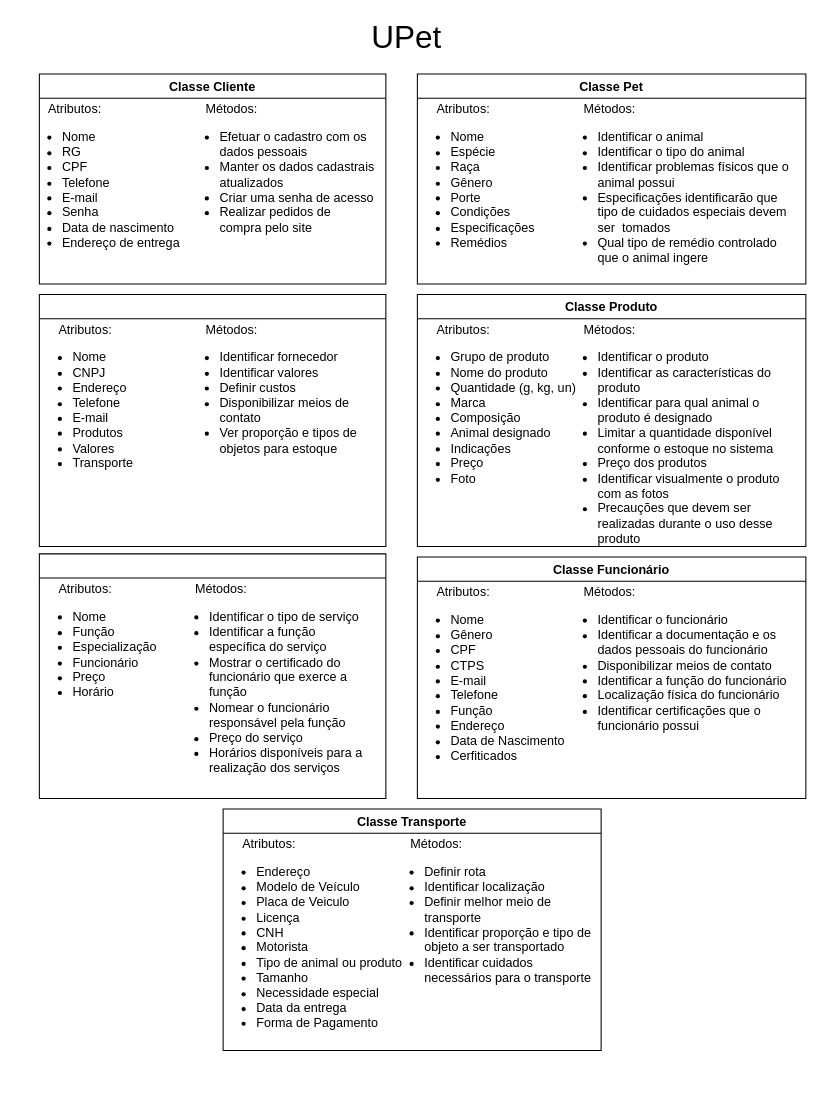
Image size: 824x1120. Some labels were removed from this diagram. Here are the shapes that lost their labels. From the top down, the box of each, then its label:
(38, 293, 386, 547): Classe de Fornecedor
(38, 553, 386, 799): Classe Serviços
